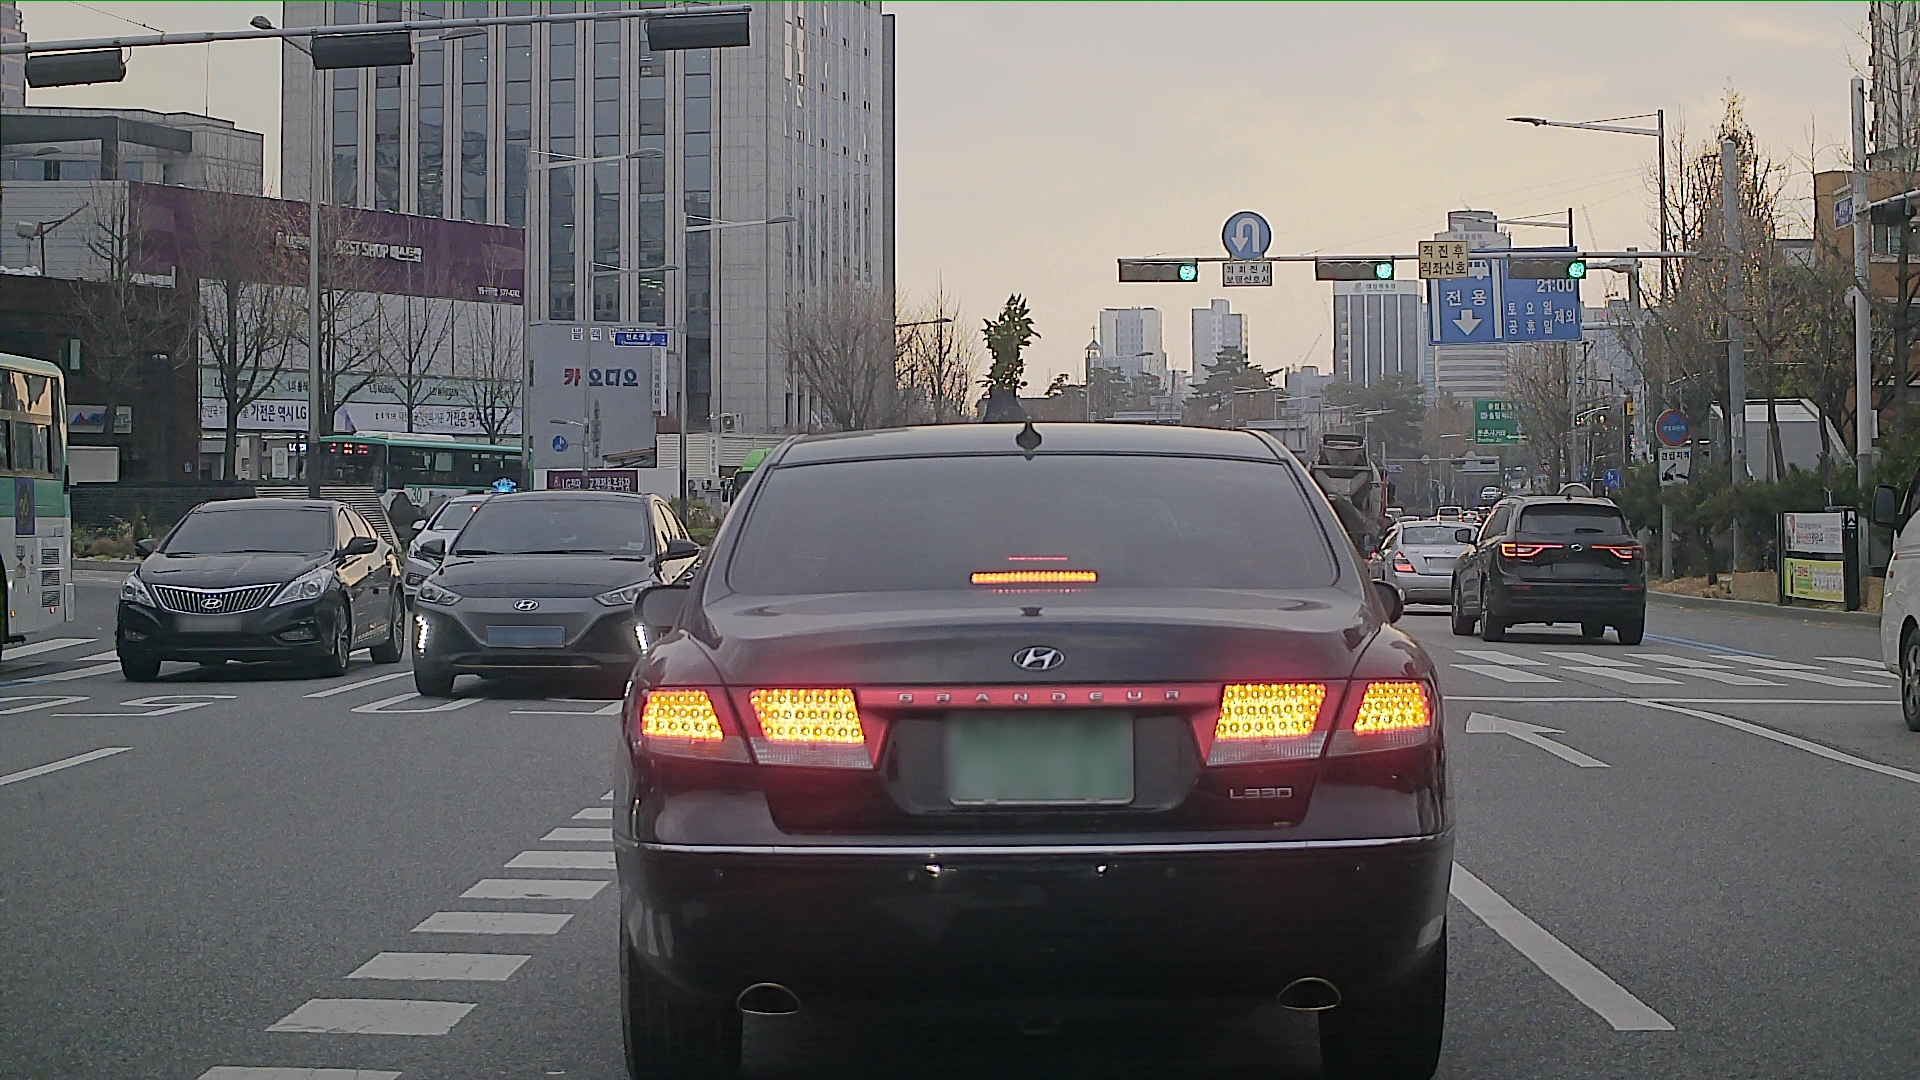trafficLight: (1112, 258, 1578, 284)
trafficSignCircle: (1222, 210, 1269, 249), (1658, 411, 1692, 446)
